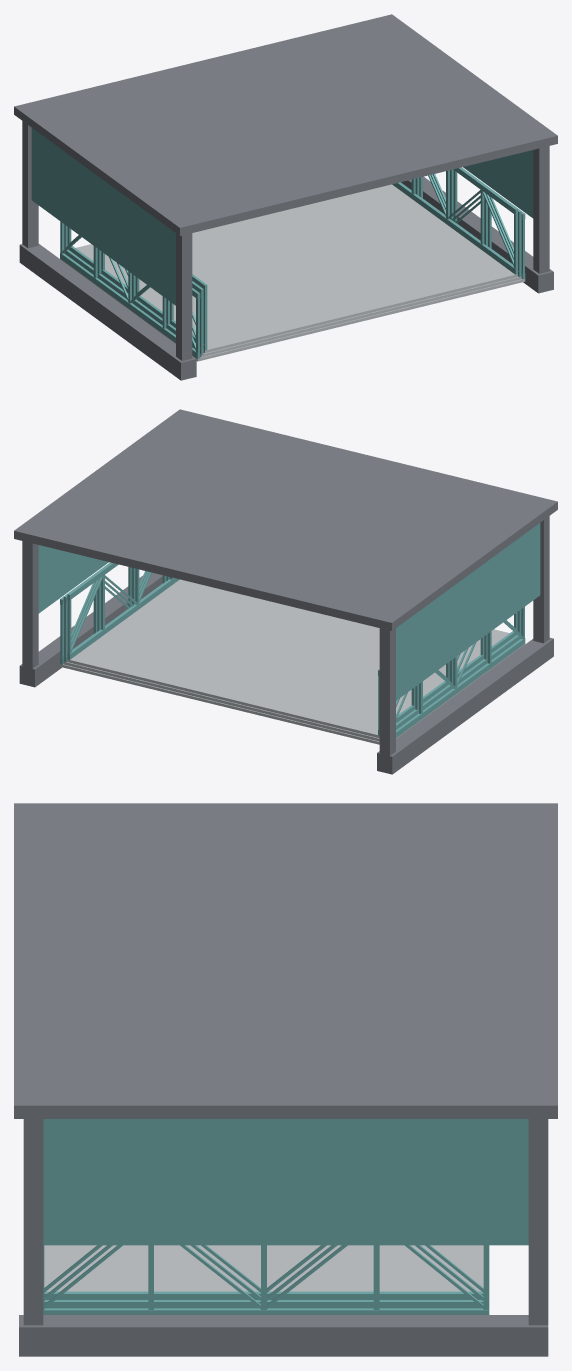
The model's file is telescope_truss_road.glb.
3 renders of one model, top to bottom at view 1: azimuth 30°, elevation 25°; view 2: azimuth 150°, elevation 25°; view 3: azimuth 270°, elevation 25°, orthographic. The views are drawn at different scales.
Parts seen in each view (by area): view 1: bridge, span_a, span_c, span_b; view 2: bridge, span_a, span_c, span_b; view 3: bridge, span_a, span_c, span_b.
Part boxes in pixels (bbox=[...]): bridge: bbox=[14, 14, 557, 380]; span_a: bbox=[67, 167, 517, 353]; span_c: bbox=[60, 168, 525, 361]; span_b: bbox=[64, 167, 521, 357]; bridge: bbox=[14, 409, 557, 774]; span_a: bbox=[67, 562, 517, 738]; span_c: bbox=[60, 563, 525, 744]; span_b: bbox=[63, 562, 521, 741]; bridge: bbox=[14, 803, 557, 1356]; span_a: bbox=[44, 1245, 483, 1299]; span_c: bbox=[43, 1245, 489, 1314]; span_b: bbox=[44, 1245, 483, 1308].
Bounding box in the file's own units: 7.3 × 2.85 × 5.55.
